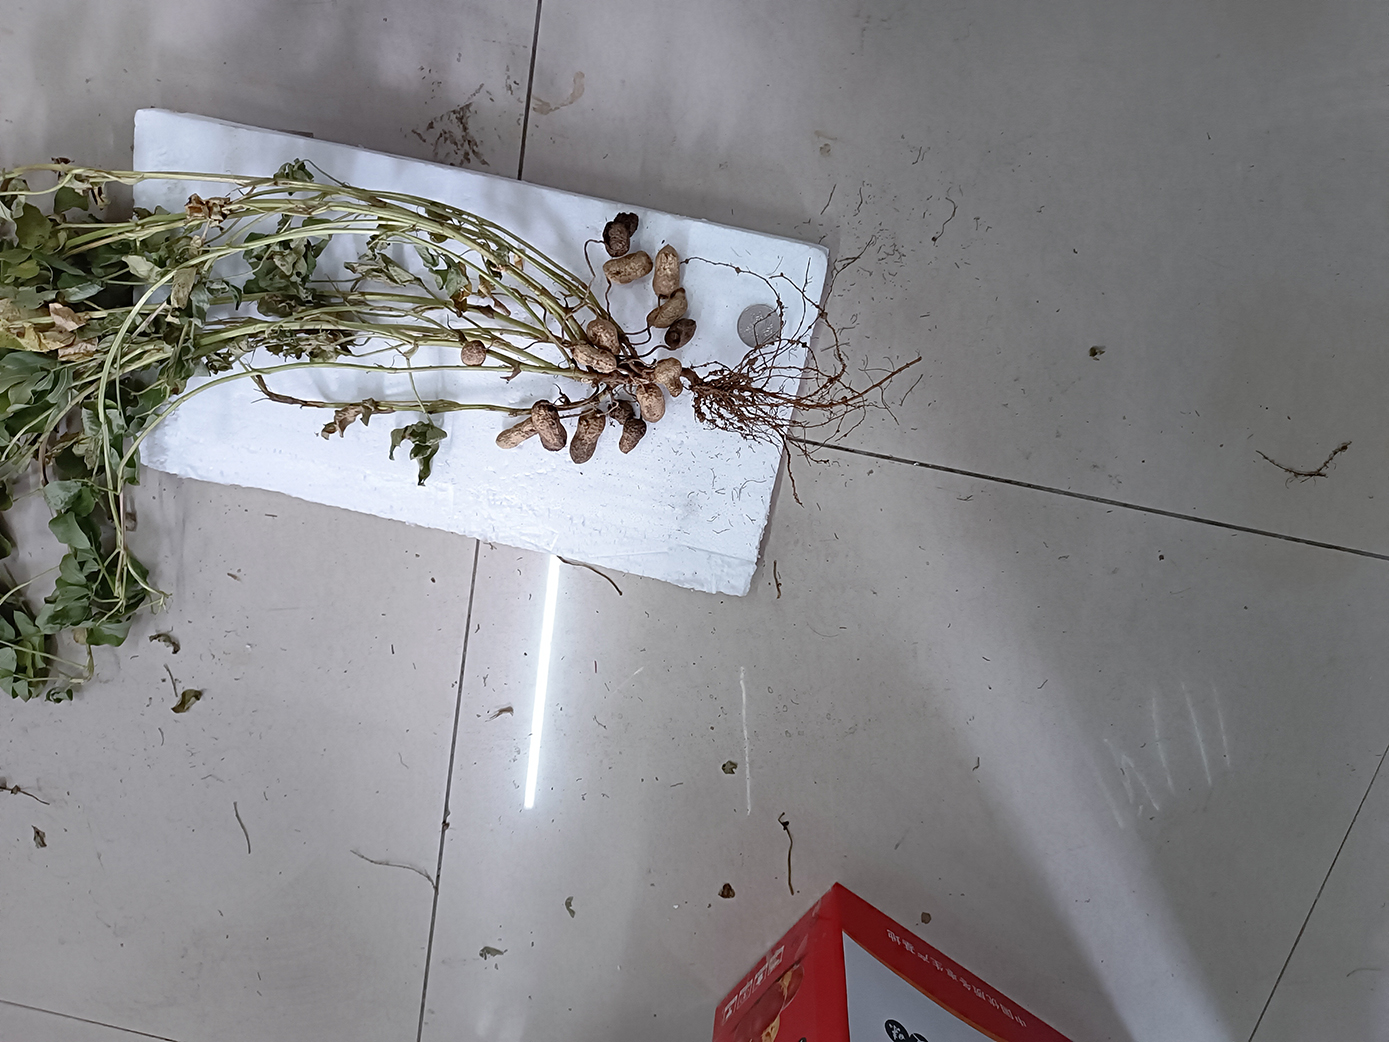h: (647, 288, 685, 326), (601, 252, 650, 281), (572, 343, 617, 373), (496, 416, 536, 449), (653, 243, 676, 298), (586, 319, 620, 354), (636, 384, 665, 422), (652, 356, 680, 395), (461, 340, 486, 366)
l: (570, 408, 606, 464), (601, 213, 640, 256), (620, 418, 646, 454), (664, 321, 696, 349), (607, 401, 635, 422)
